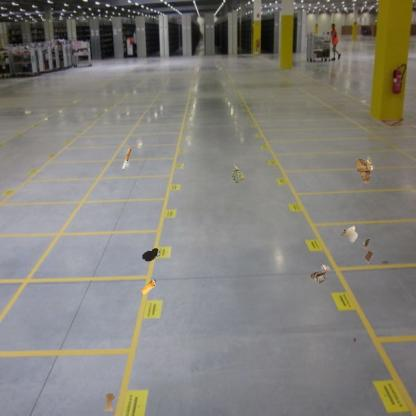dirty: (354, 154, 376, 184), (308, 261, 331, 286), (338, 223, 360, 244), (361, 236, 375, 266), (138, 276, 158, 295), (230, 163, 246, 186), (120, 146, 134, 171)
liquid: (103, 392, 118, 415), (141, 248, 161, 262)
